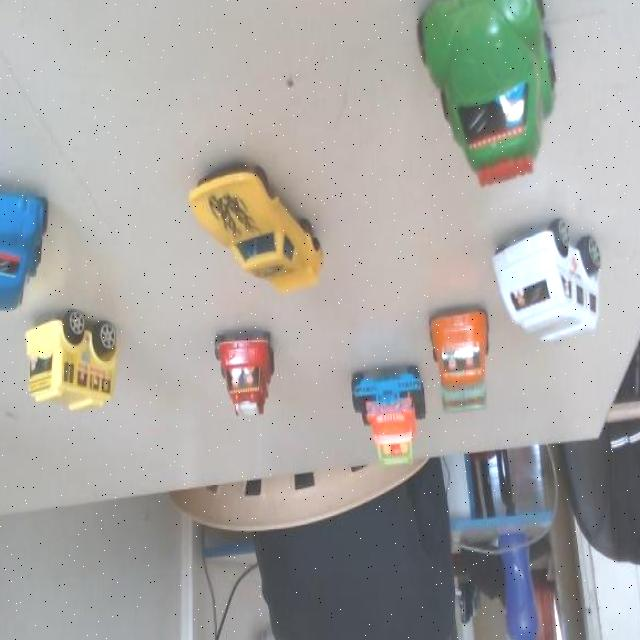car: (424, 0, 577, 180), (185, 157, 338, 298), (486, 200, 616, 359), (33, 302, 130, 411), (338, 367, 424, 476), (212, 315, 291, 429), (428, 302, 499, 426), (0, 174, 50, 314)
